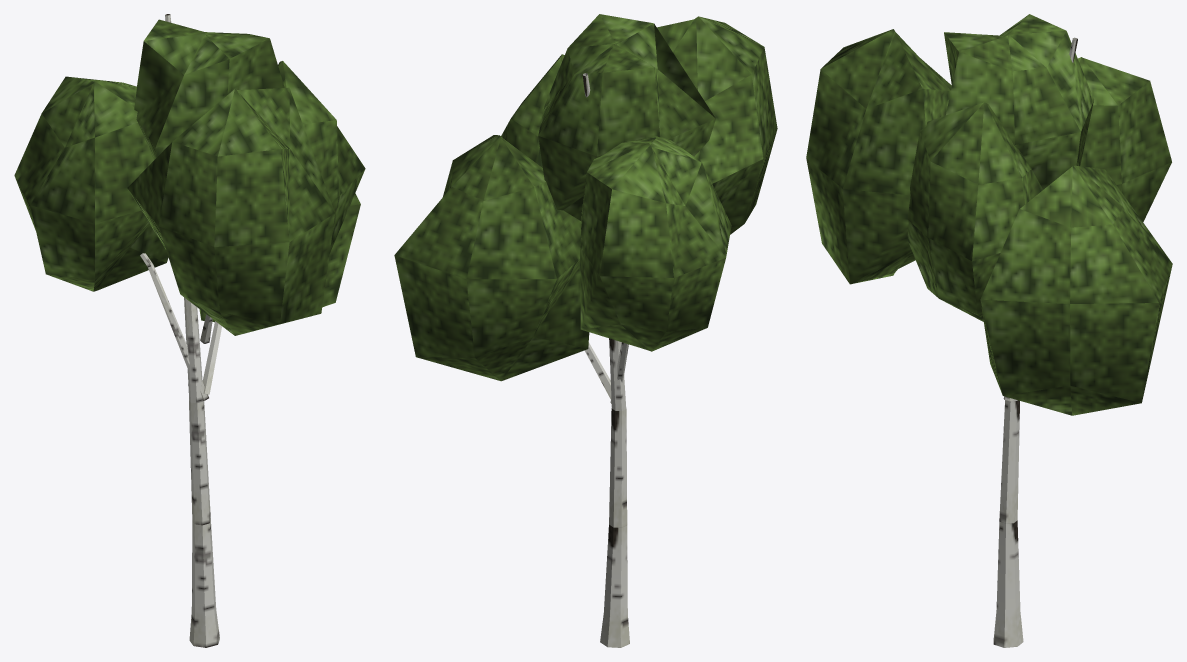
Rendered from birch.obj.
3 renders of one model, left to right at view 1: azimuth 30°, elevation 25°; view 2: azimuth 150°, elevation 25°; view 3: azimuth 270°, elevation 25°, orthographic.
Visible parts, largest first — view 1: birch_crown, birch; view 2: birch_crown, birch; view 3: birch_crown, birch.
Boxes of the visible parts, bbox=[...] form: birch_crown: bbox=[14, 14, 365, 403]; birch: bbox=[189, 400, 219, 647]; birch_crown: bbox=[394, 14, 777, 410]; birch: bbox=[600, 408, 629, 647]; birch_crown: bbox=[806, 14, 1172, 415]; birch: bbox=[993, 400, 1023, 647].
Bounding box in the file's own units: 3.64 × 7.2 × 3.92.
1 material, 1 textured.
